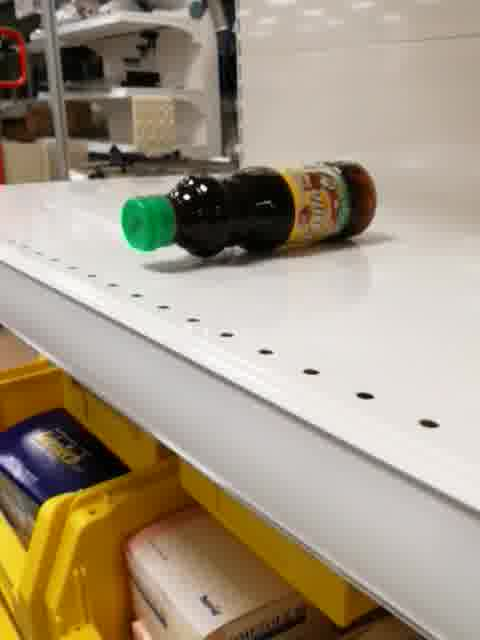cookingoil: (119, 153, 382, 263)
